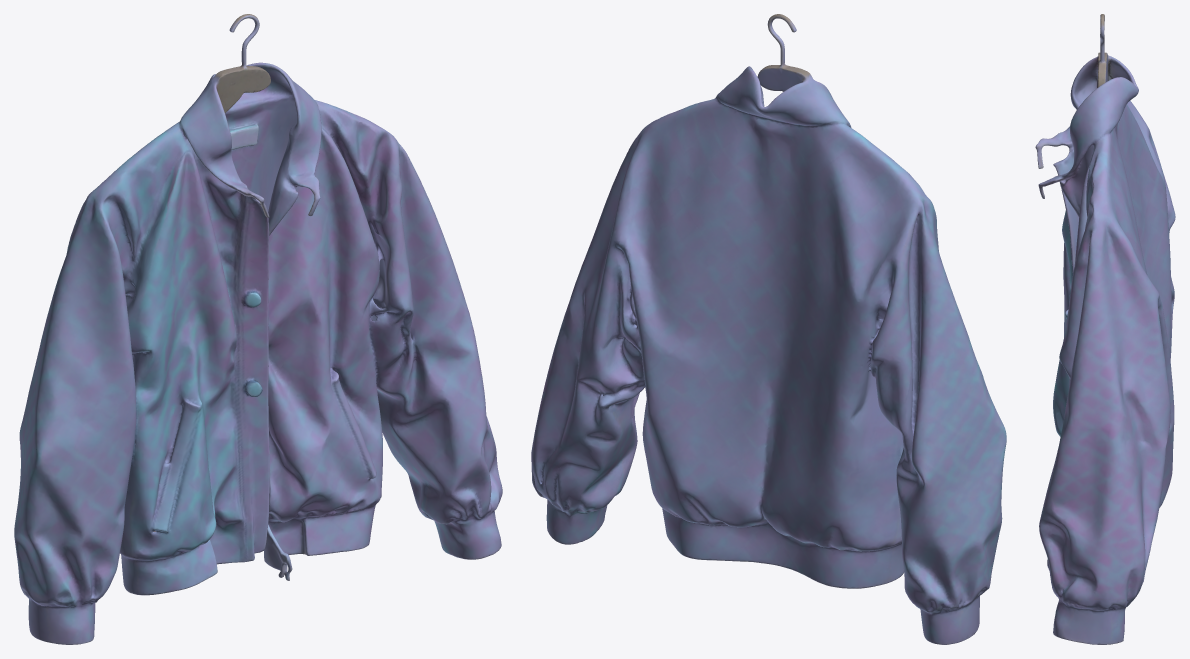
Rendered from Meshy_AI_Prism_Glow_Bomber_1017114106_texture.glb.
3 views of the same model, side by side, from view 1: azimuth 30°, elevation 25°; view 2: azimuth 150°, elevation 25°; view 3: azimuth 270°, elevation 25° (orthographic). The views are drawn at different scales.
Size of the model in its own units: 1.6 by 1.9 by 0.4537.
Materials: 1 (1 with a texture image).
